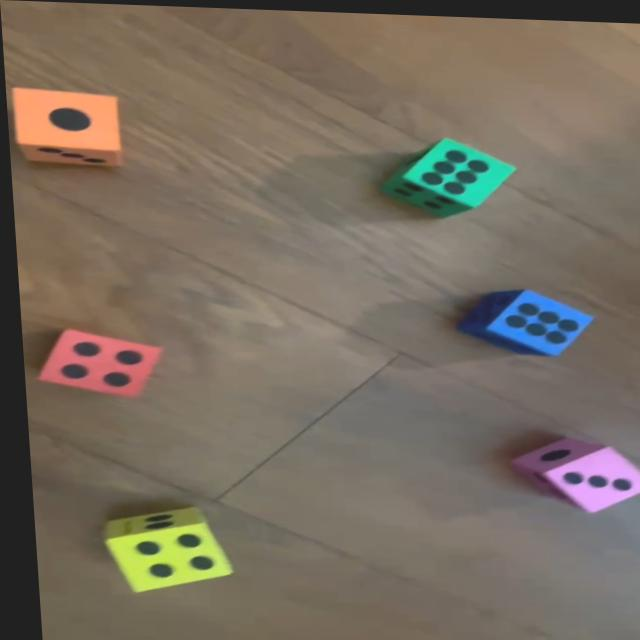blue_block: (453, 284, 590, 354)
red_block: (33, 327, 161, 400)
